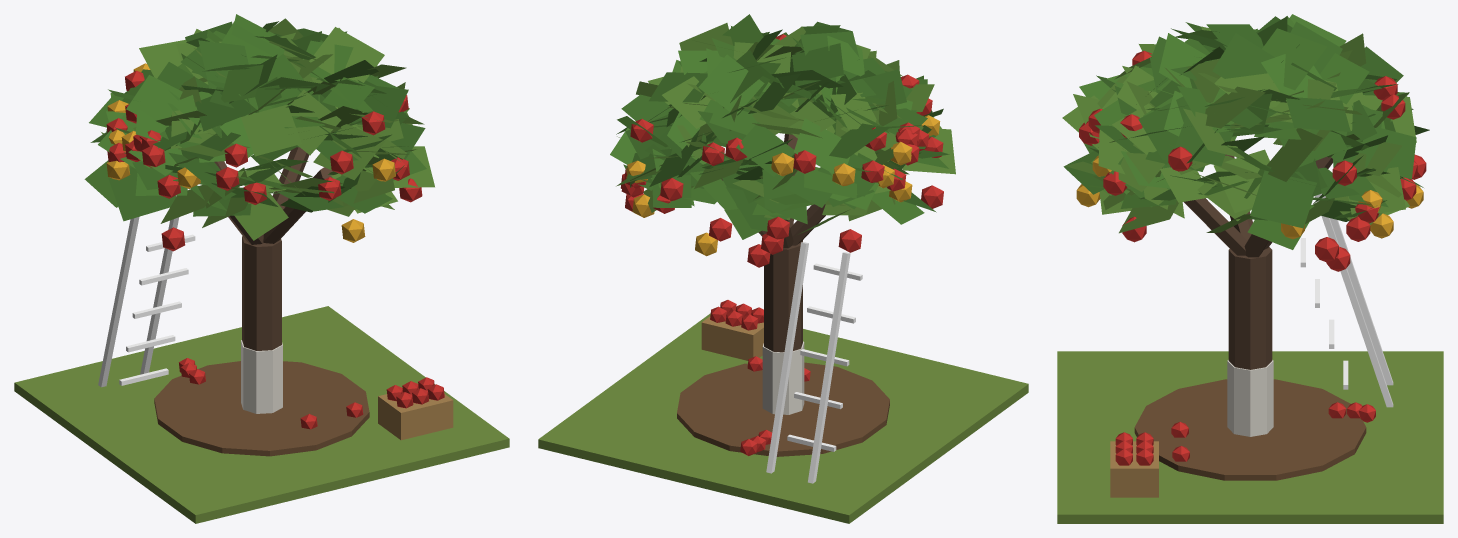
File: elma.glb
The picture shows the model from 3 angles, left to right: view 1: azimuth 30°, elevation 25°; view 2: azimuth 150°, elevation 25°; view 3: azimuth 270°, elevation 25°; orthographic projection. The views are drawn at different scales.
Visible parts, largest first — view 1: Basamak; view 2: Basamak; view 3: Basamak.
Boxes of the visible parts, box(x1,y1,x2,y2) form: Basamak: box(14, 14, 509, 523); Basamak: box(538, 14, 1028, 523); Basamak: box(1057, 14, 1443, 523).
Size of the model in its own units: 1 by 1.18 by 1.
